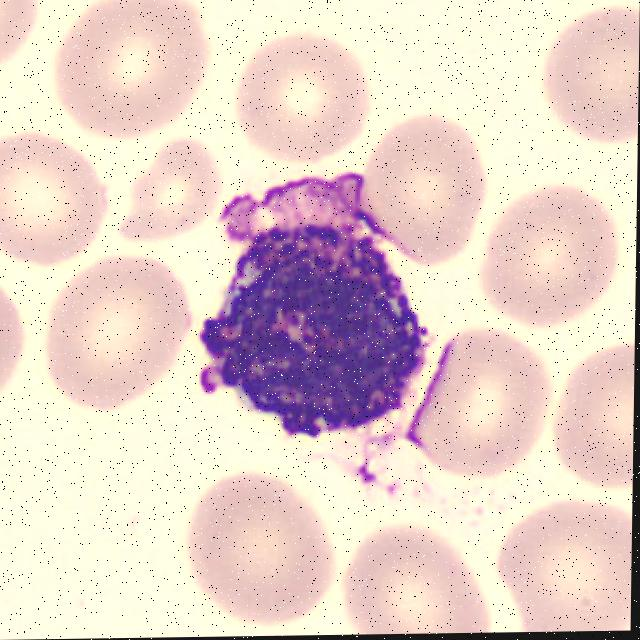basophil: (202, 221, 436, 443)
rbc: (48, 0, 214, 149), (46, 260, 201, 405), (193, 471, 340, 616), (417, 322, 551, 480), (487, 185, 613, 349), (345, 508, 499, 635), (482, 502, 632, 632), (233, 28, 371, 165), (365, 119, 488, 269), (0, 129, 113, 277), (537, 3, 640, 155), (551, 334, 635, 506), (120, 138, 240, 241), (0, 267, 39, 404), (0, 0, 43, 79)
